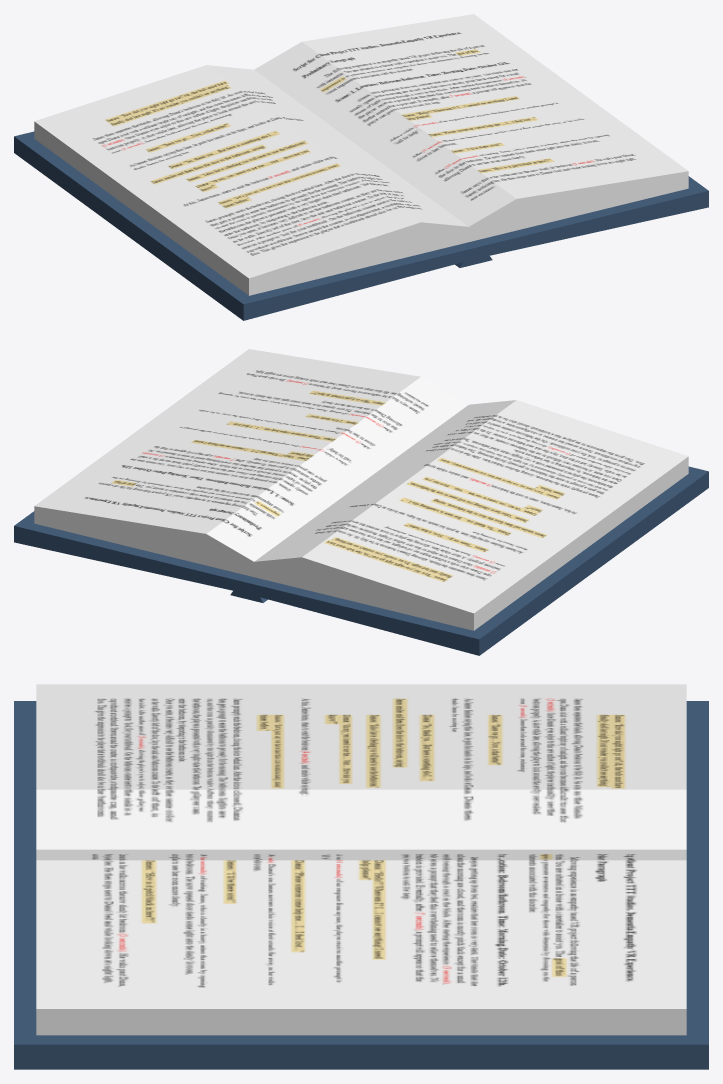
Rendered from sm_openBook2.fbx.
3 views of the same model, one above another, from view 1: azimuth 30°, elevation 25°; view 2: azimuth 150°, elevation 25°; view 3: azimuth 270°, elevation 25° (orthographic). The views are drawn at different scales.
Parts seen in each view (by area): view 1: Cube.034; view 2: Cube.034; view 3: Cube.034.
Part boxes in pixels (x1=…): Cube.034: x1=14, y1=14, x2=708, y2=320; Cube.034: x1=14, y1=349, x2=708, y2=655; Cube.034: x1=14, y1=684, x2=708, y2=1069.
Size of the model in its own units: 24.71 by 2.44 by 21.11.
